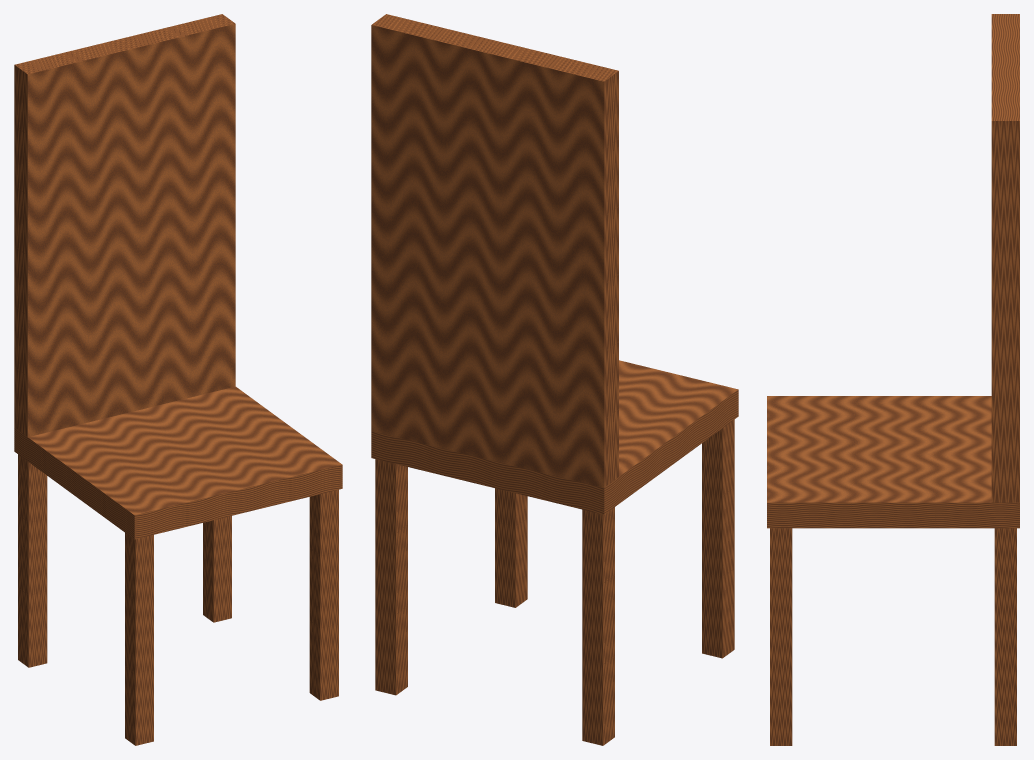
Rendered from chair.glb.
3 renders of one model, left to right at view 1: azimuth 30°, elevation 25°; view 2: azimuth 150°, elevation 25°; view 3: azimuth 270°, elevation 25°, orthographic. The views are drawn at different scales.
Parts seen in each view (by area): view 1: chair; view 2: chair; view 3: chair.
Boxes of the visible parts, box(x1,y1,x2,y2) form: chair: box(14, 14, 342, 745); chair: box(371, 14, 738, 745); chair: box(767, 14, 1019, 745).
Bounding box in the file's own units: 0.45 × 1.23 × 0.45.
Materials: 1 (1 with a texture image).
